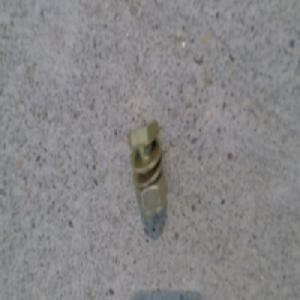BoltNutSet: (131, 123, 166, 210)
